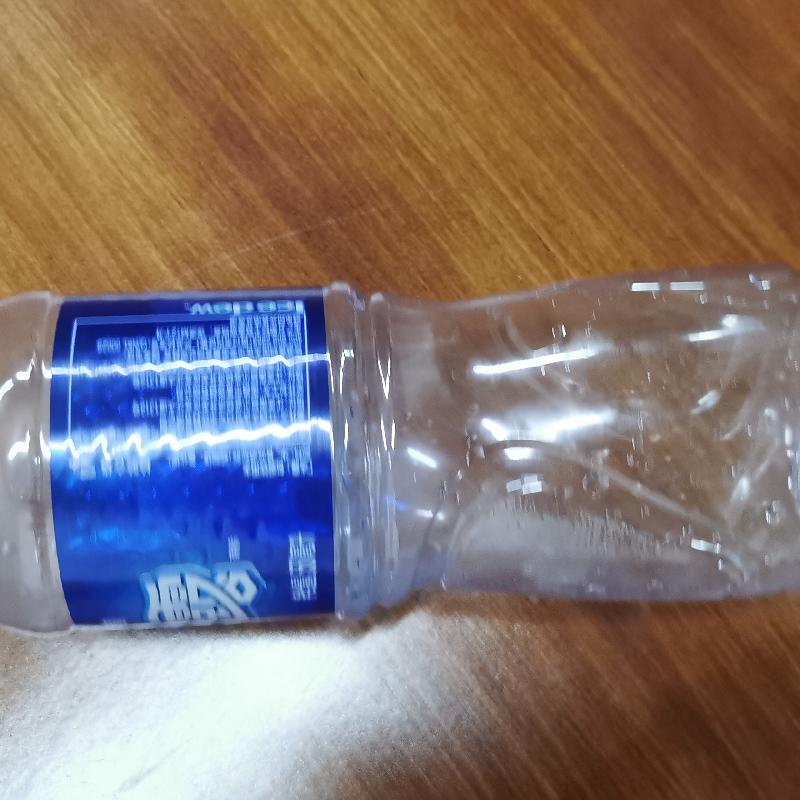bottles: (0, 259, 799, 645)
